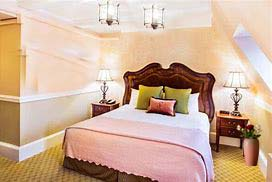copymove: (95, 1, 124, 26)
removal: (72, 43, 102, 70)
spliced: (238, 125, 263, 165)
